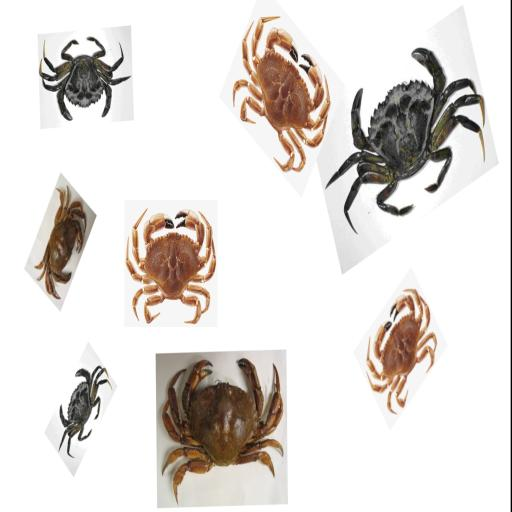green crab: (331, 16, 496, 251), (40, 342, 118, 479), (37, 24, 132, 128)
joe crab: (226, 9, 332, 175), (124, 200, 218, 334), (362, 278, 445, 422)
rock crab: (154, 352, 284, 508), (25, 182, 95, 308)
